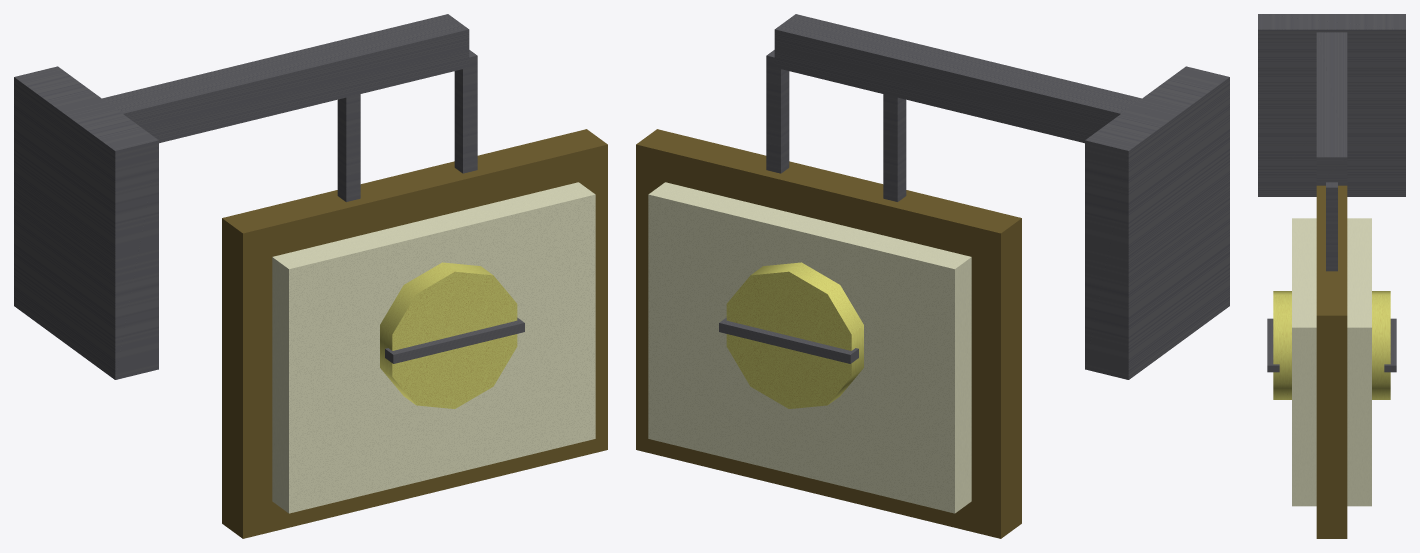
File: village_sign_bakery.glb
3 views of the same model, side by side, from view 1: azimuth 30°, elevation 25°; view 2: azimuth 150°, elevation 25°; view 3: azimuth 270°, elevation 25° (orthographic). The views are drawn at different scales.
Visible parts, largest first — view 1: sgb_2, sgb_0, sgb_1, sgb_3; view 2: sgb_2, sgb_0, sgb_1, sgb_3; view 3: sgb_0, sgb_2, sgb_1, sgb_3.
Boxes of the visible parts, bbox=[...] form: sgb_2: bbox=[272, 182, 595, 513]; sgb_0: bbox=[14, 14, 524, 379]; sgb_1: bbox=[222, 129, 607, 538]; sgb_3: bbox=[380, 262, 517, 408]; sgb_2: bbox=[648, 182, 971, 513]; sgb_0: bbox=[719, 14, 1229, 379]; sgb_1: bbox=[636, 129, 1021, 538]; sgb_3: bbox=[726, 262, 863, 408]; sgb_0: bbox=[1258, 14, 1405, 372]; sgb_2: bbox=[1292, 218, 1371, 506]; sgb_1: bbox=[1316, 185, 1347, 538]; sgb_3: bbox=[1273, 291, 1390, 399].
Bounding box in the file's own units: 0.73 × 0.6 × 0.24.
Materials: 3 (3 with a texture image).
